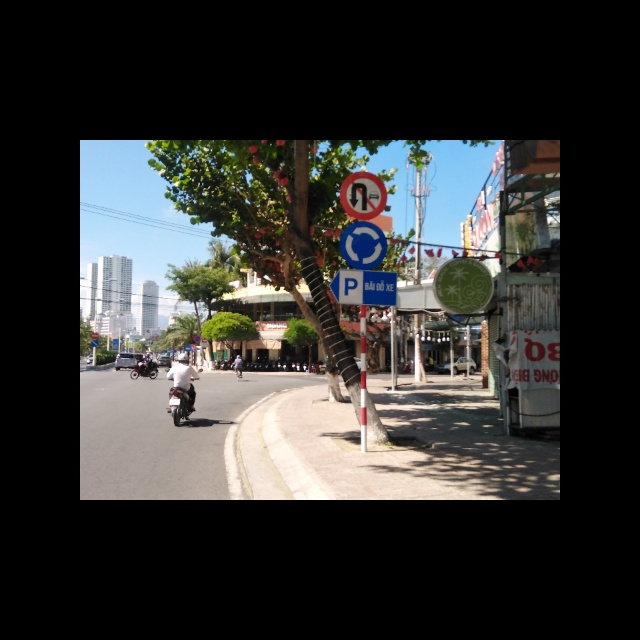Cấm xe ô tô quay đầu: (339, 171, 388, 218)
Nơi giao nhau chạy theo vòng xuyến: (340, 222, 388, 269)
Nơi đỗ xe: (328, 270, 397, 307)
